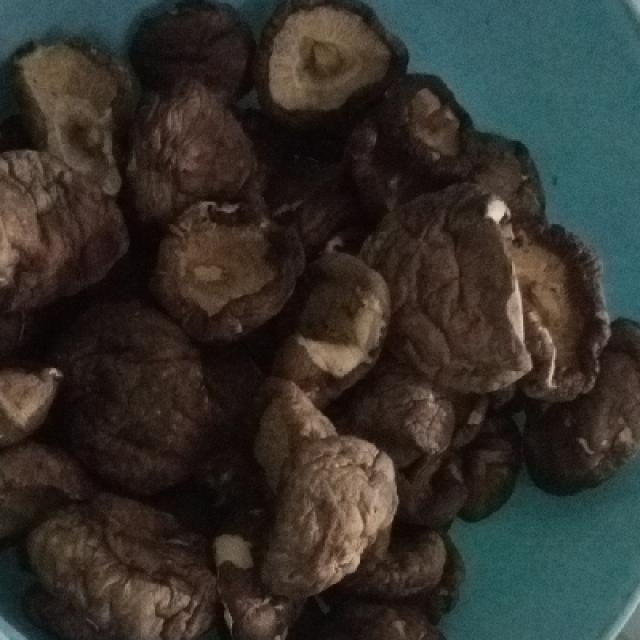Lentinus edodes: (0, 9, 639, 633)
